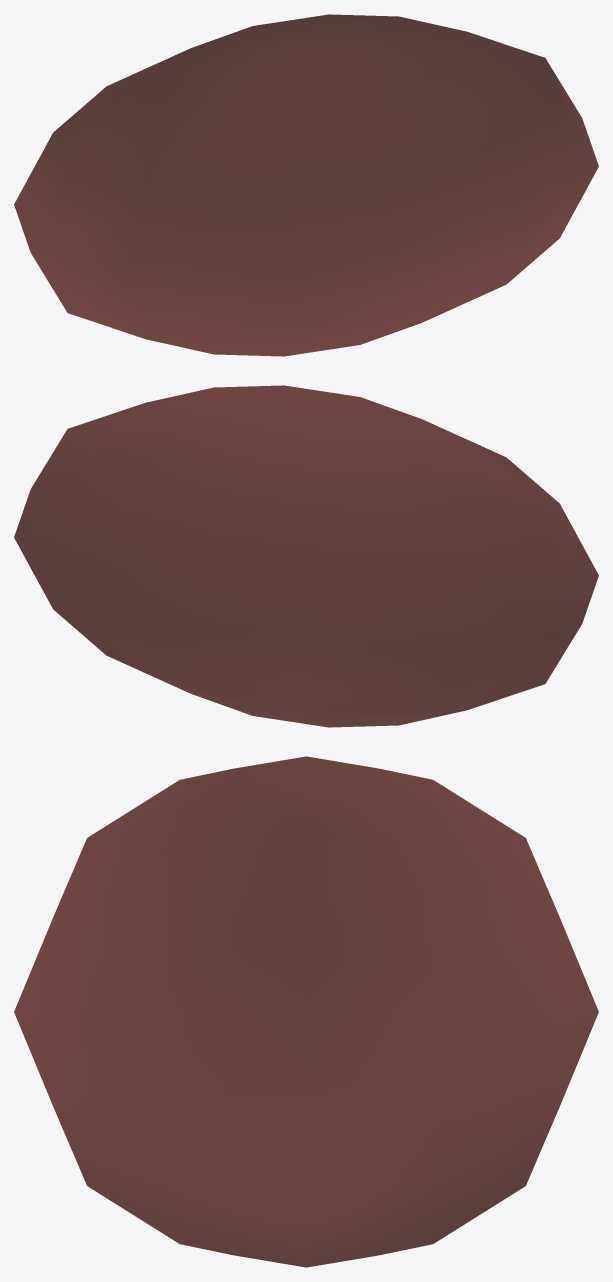
File: EatenWideFront.obj
The picture shows the model from 3 angles, top to bottom: view 1: azimuth 30°, elevation 25°; view 2: azimuth 150°, elevation 25°; view 3: azimuth 270°, elevation 25°; orthographic projection. The views are drawn at different scales.
Parts seen in each view (by area): view 1: pSphere1; view 2: pSphere1; view 3: pSphere1.
Part boxes in pixels (x1,y1,x2,y2): pSphere1: [14, 14, 598, 356]; pSphere1: [14, 385, 598, 727]; pSphere1: [14, 756, 598, 1267].
Bounding box in the file's own units: 9.91 × 4.77 × 6.68.
